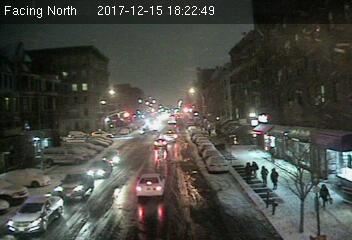car: (6, 193, 65, 233), (55, 170, 93, 199), (134, 172, 166, 199), (87, 158, 113, 179), (206, 155, 229, 172), (102, 150, 124, 165), (154, 138, 167, 149)
pedestrian: (319, 183, 330, 209), (270, 167, 279, 190), (260, 165, 269, 185), (245, 159, 252, 181)
